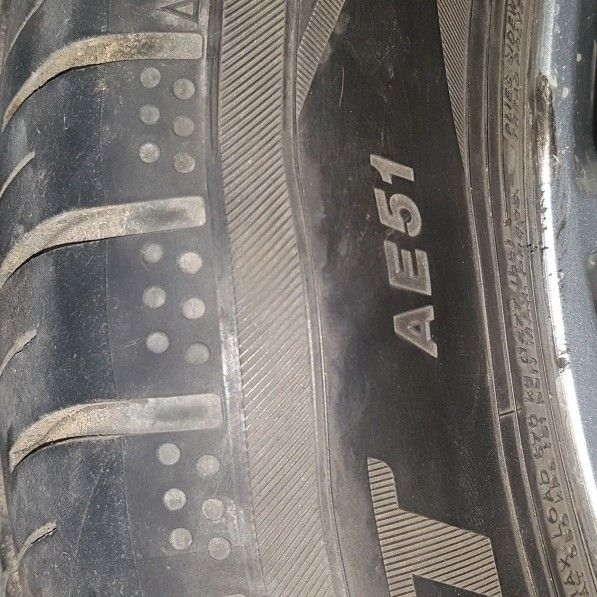CBU: (61, 126, 347, 379)
